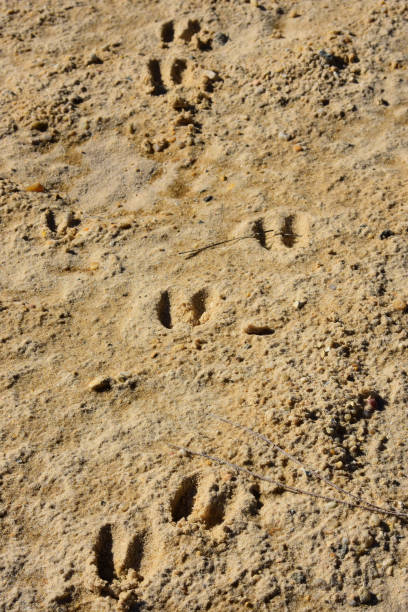animal_footprint: (85, 469, 268, 611), (141, 18, 221, 153), (87, 523, 149, 611), (170, 473, 262, 529), (145, 19, 210, 95), (170, 475, 231, 528), (156, 288, 215, 328), (251, 211, 308, 250)
